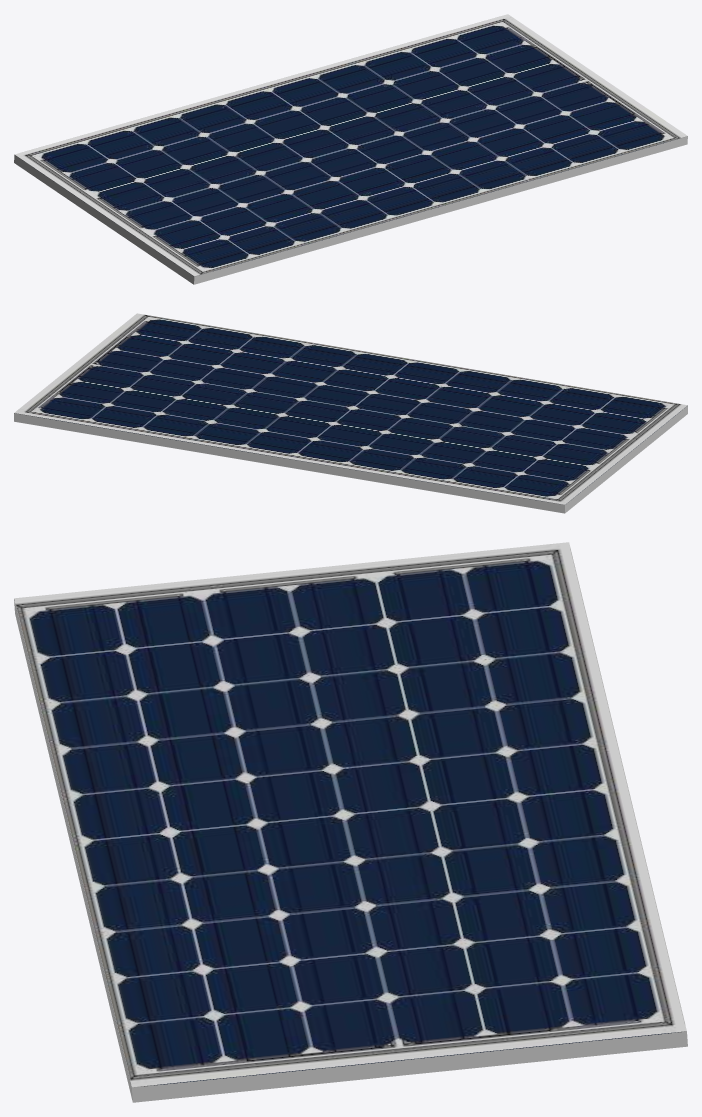
3 views of the same model, one above another, from view 1: azimuth 30°, elevation 25°; view 2: azimuth 150°, elevation 25°; view 3: azimuth 270°, elevation 25° (orthographic). The views are drawn at different scales.
Visible parts, largest first — view 1: Í¹Ì¨-ÀÉì2, ÇÐ³ý-ÀÉì3; view 2: Í¹Ì¨-ÀÉì2, ÇÐ³ý-ÀÉì3; view 3: Í¹Ì¨-ÀÉì2, ÇÐ³ý-ÀÉì3.
Boxes of the visible parts, x1,y1,x2,y2 form: Í¹Ì¨-ÀÉì2: [14, 14, 687, 276]; ÇÐ³ý-ÀÉì3: [14, 136, 687, 284]; Í¹Ì¨-ÀÉì2: [14, 313, 687, 504]; ÇÐ³ý-ÀÉì3: [14, 406, 687, 513]; Í¹Ì¨-ÀÉì2: [14, 542, 686, 1087]; ÇÐ³ý-ÀÉì3: [14, 599, 687, 1102].
Size of the model in its own units: 2362 by 153 by 1365.
1 material, 1 textured.
